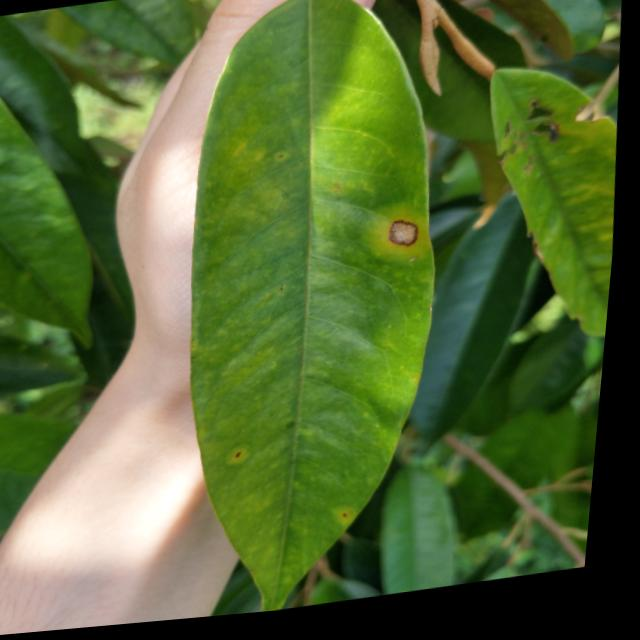Leaf Spot: (369, 190, 440, 278), (218, 434, 273, 484), (342, 513, 375, 538)
